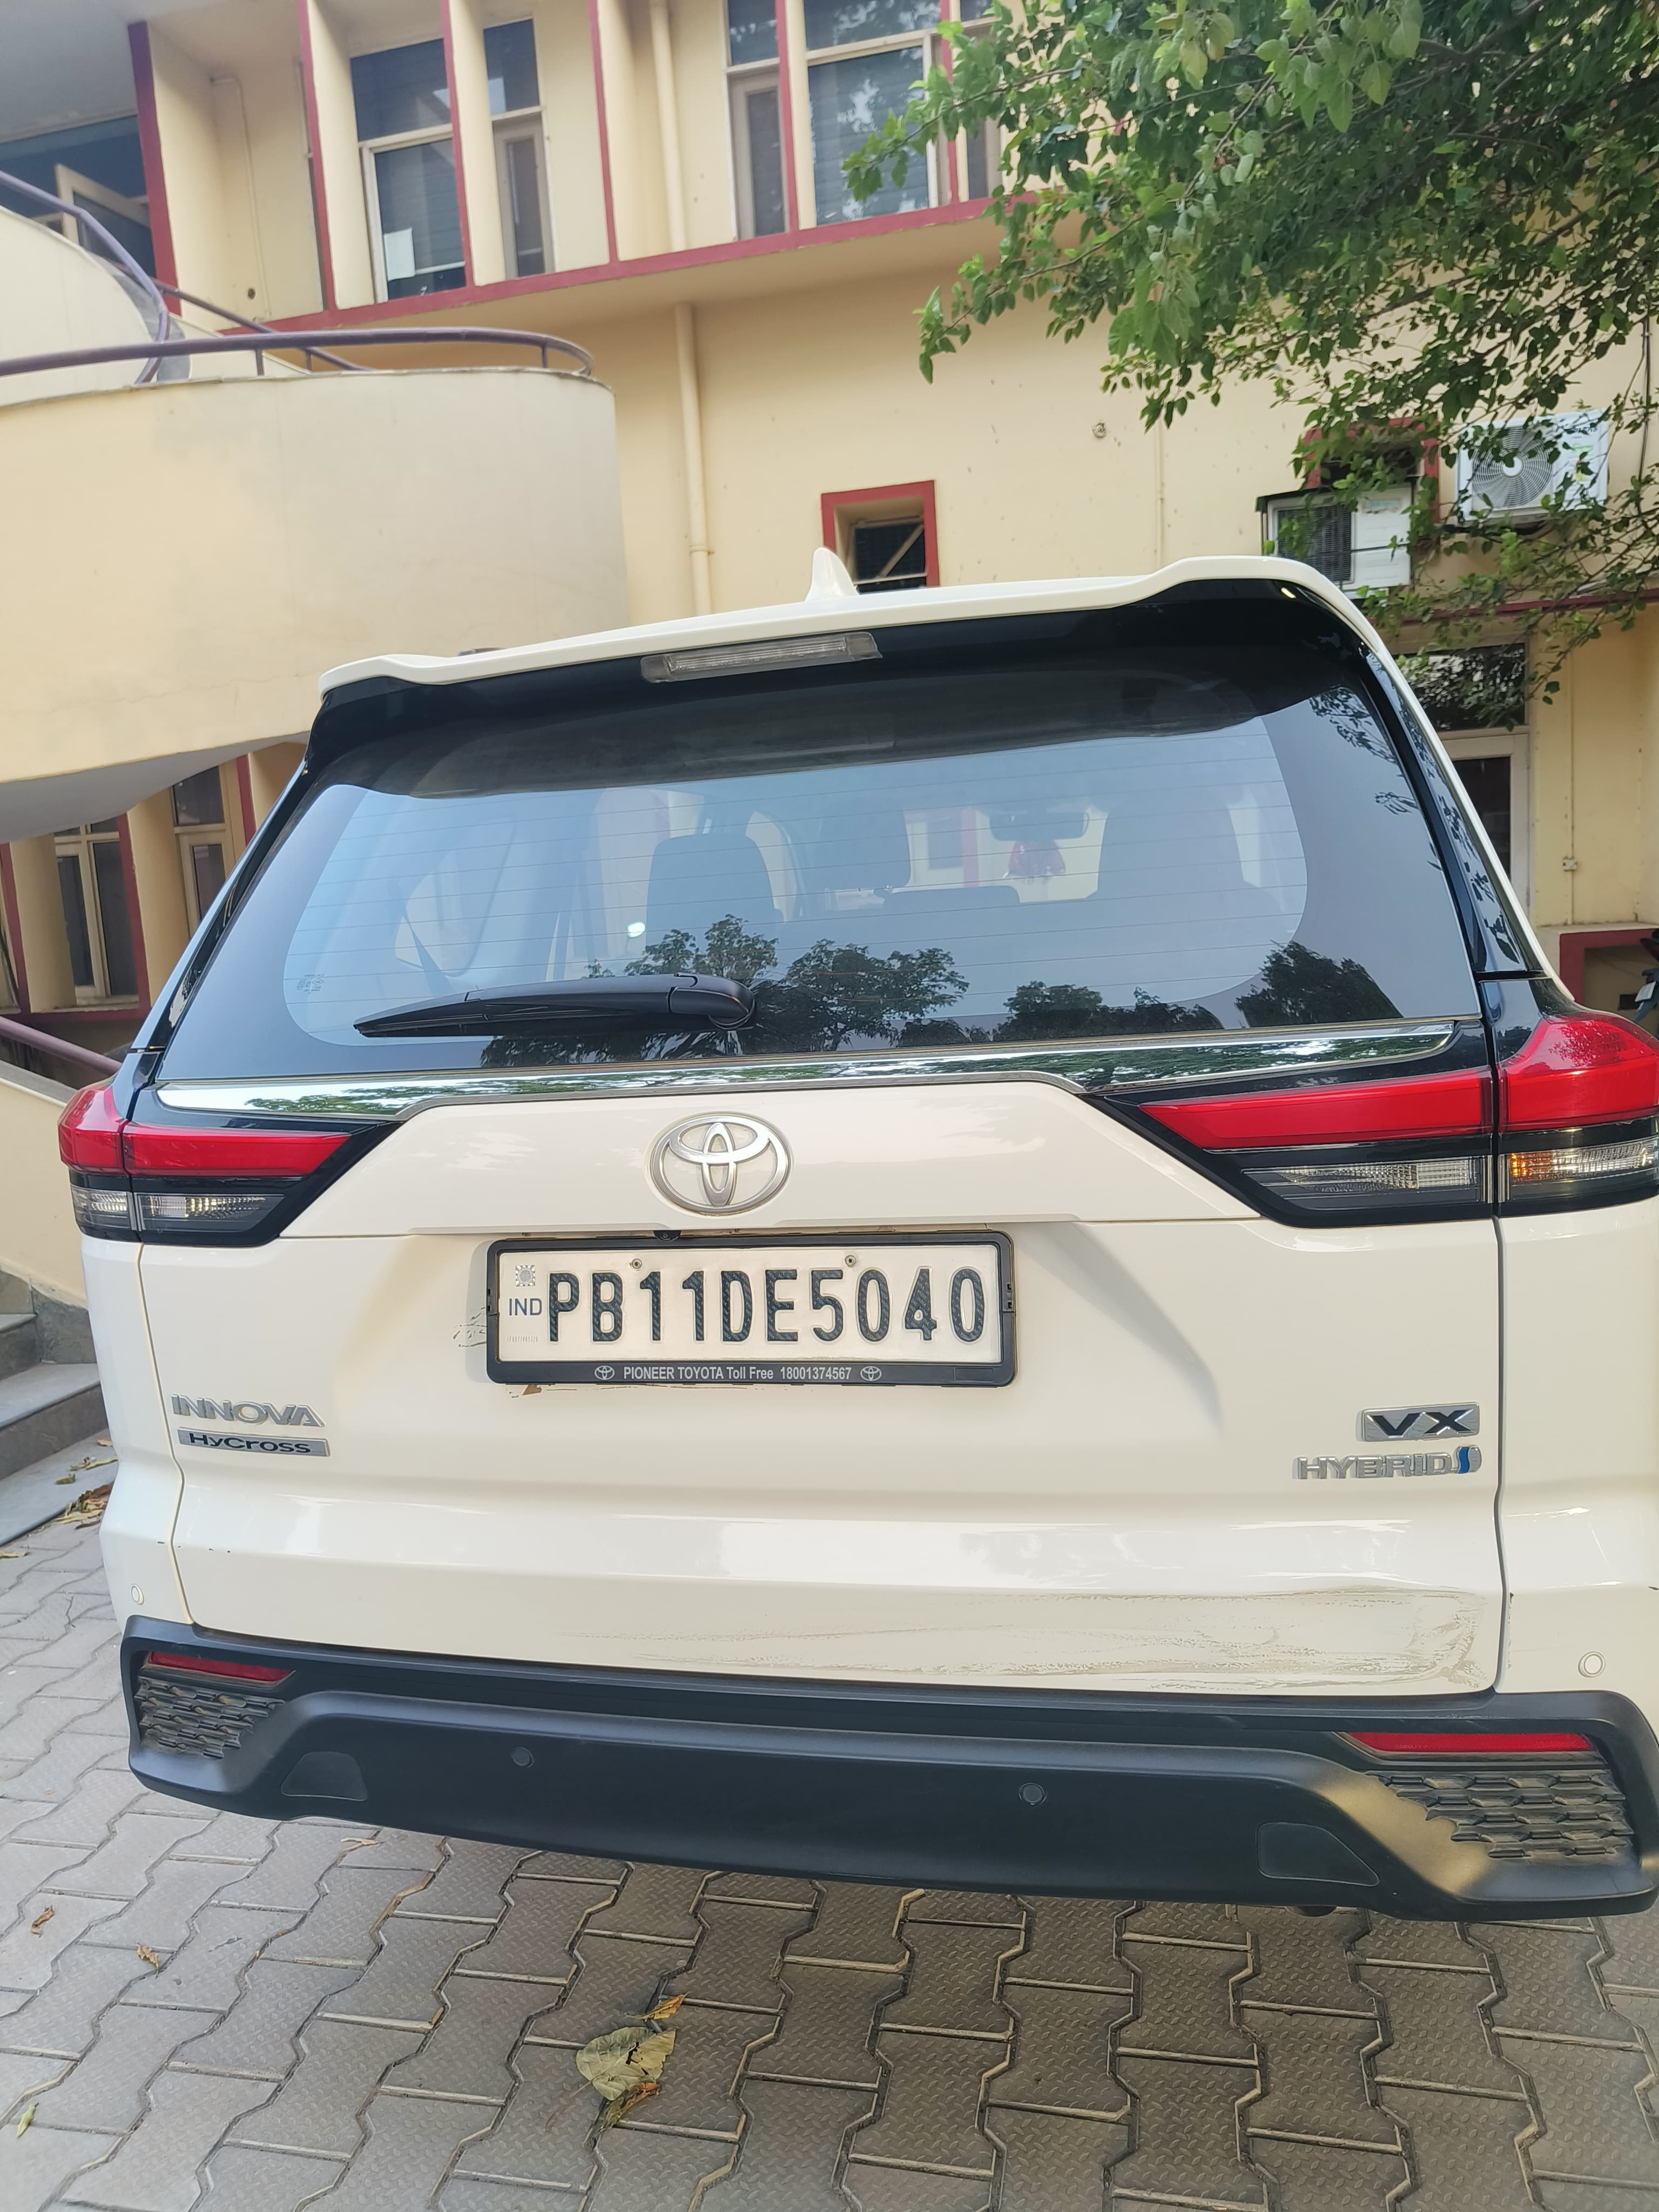license plate: (488, 1232, 1014, 1385)
